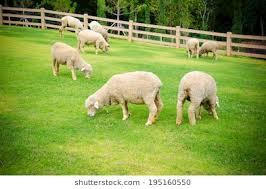sheep: (84, 69, 164, 127), (175, 70, 222, 128), (50, 40, 96, 83), (77, 29, 109, 55), (58, 14, 87, 38), (198, 36, 217, 61), (183, 38, 200, 60)
